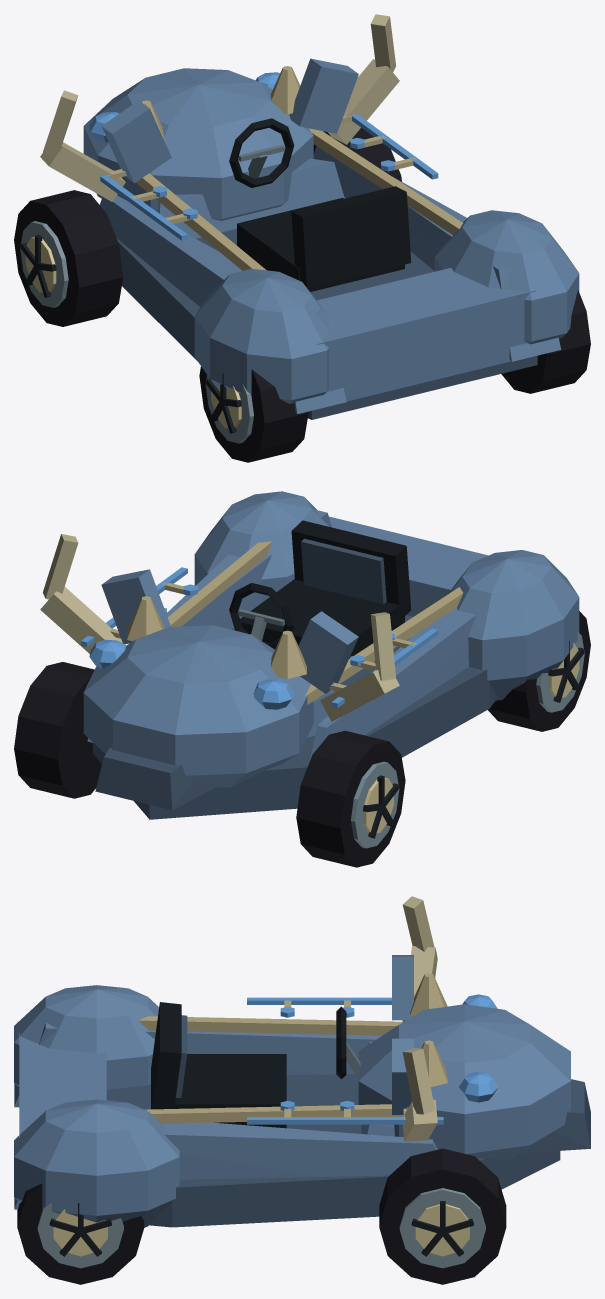
File: kart.glb
3 views of the same model, one above another, from view 1: azimuth 30°, elevation 25°; view 2: azimuth 150°, elevation 25°; view 3: azimuth 270°, elevation 25° (orthographic). The views are drawn at different scales.
Parts seen in each view (by area): view 1: identity-beast-beast-sculpted-prow-and-haunches, identity-beast-driver-cockpit, wheel-front-left, wheel-rear-left, identity-beast-motif-horns, wheel-rear-right, identity-beast-motif-circuit, wheel-front-right; view 2: identity-beast-beast-sculpted-prow-and-haunches, identity-beast-driver-cockpit, wheel-front-left, wheel-front-right, identity-beast-motif-horns, wheel-rear-left, identity-beast-motif-circuit; view 3: identity-beast-beast-sculpted-prow-and-haunches, wheel-front-right, identity-beast-driver-cockpit, wheel-rear-right, identity-beast-motif-horns, identity-beast-motif-circuit.
Boxes of the visible parts, x1=… form: identity-beast-beast-sculpted-prow-and-haunches: x1=83, y1=58, x2=579, y2=419; identity-beast-driver-cockpit: x1=229, y1=118, x2=411, y2=291; wheel-front-left: x1=14, y1=190, x2=123, y2=326; wheel-rear-left: x1=199, y1=366, x2=308, y2=462; identity-beast-motif-horns: x1=40, y1=14, x2=399, y2=201; wheel-rear-right: x1=501, y1=290, x2=590, y2=393; identity-beast-motif-circuit: x1=100, y1=114, x2=438, y2=240; wheel-front-right: x1=313, y1=127, x2=401, y2=181; identity-beast-beast-sculpted-prow-and-haunches: x1=83, y1=491, x2=579, y2=819; identity-beast-driver-cockpit: x1=229, y1=520, x2=411, y2=658; wheel-front-left: x1=296, y1=730, x2=405, y2=867; wheel-front-right: x1=14, y1=662, x2=101, y2=798; identity-beast-motif-horns: x1=40, y1=534, x2=399, y2=721; wheel-rear-left: x1=488, y1=611, x2=590, y2=731; identity-beast-motif-circuit: x1=81, y1=567, x2=438, y2=707; identity-beast-beast-sculpted-prow-and-haunches: x1=14, y1=955, x2=590, y2=1227; wheel-front-right: x1=379, y1=1148, x2=506, y2=1284; identity-beast-driver-cockpit: x1=151, y1=1002, x2=360, y2=1128; wheel-rear-right: x1=17, y1=1183, x2=144, y2=1284; identity-beast-motif-horns: x1=402, y1=896, x2=437, y2=1141; identity-beast-motif-circuit: x1=247, y1=997, x2=443, y2=1124.
Size of the model in its own units: 2.01 by 1.29 by 2.9.
